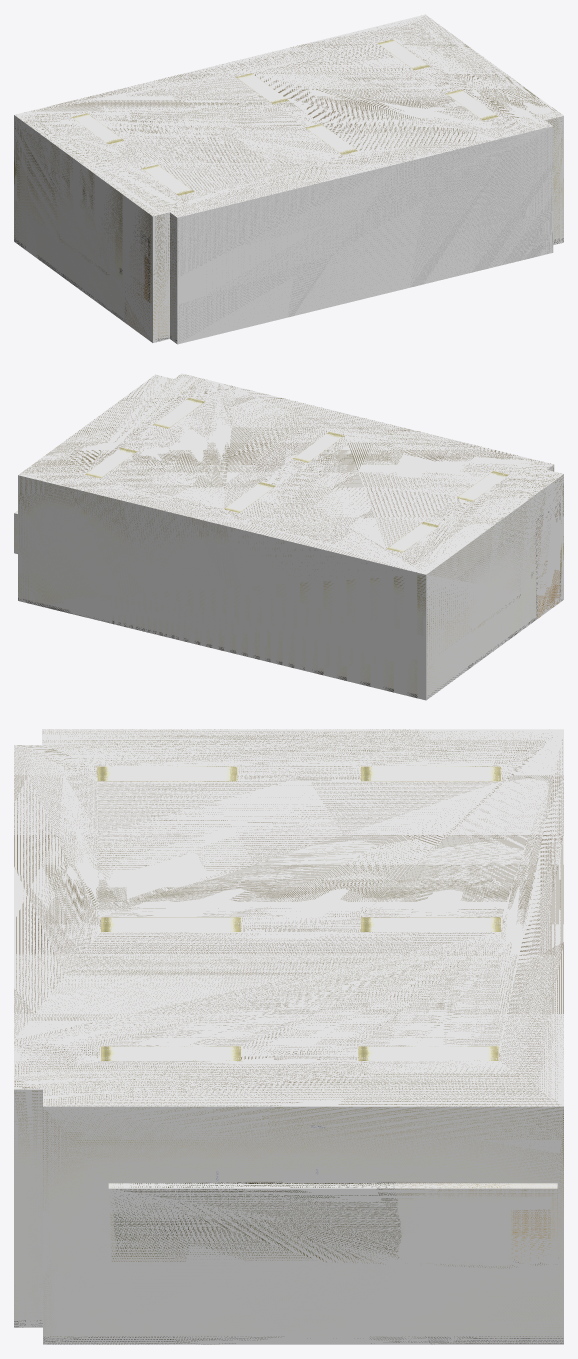
File: lab_minification.dae
3 renders of one model, top to bottom at view 1: azimuth 30°, elevation 25°; view 2: azimuth 150°, elevation 25°; view 3: azimuth 270°, elevation 25°, orthographic. The views are drawn at different scales.
Parts seen in each view (by area): view 1: Lab (×4), Light (×6); view 2: Lab (×3), Light (×6); view 3: Lab (×3), Light (×6).
Part boxes in pixels (x1,y1,x2,y2): Lab (×4): [14, 14, 563, 344]; Light (×6): [72, 39, 498, 195]; Lab (×3): [18, 373, 563, 700]; Light (×6): [85, 398, 508, 552]; Lab (×3): [14, 729, 563, 1344]; Light (×6): [97, 766, 500, 1060].
Size of the model in its own units: 365 by 222 by 106.
